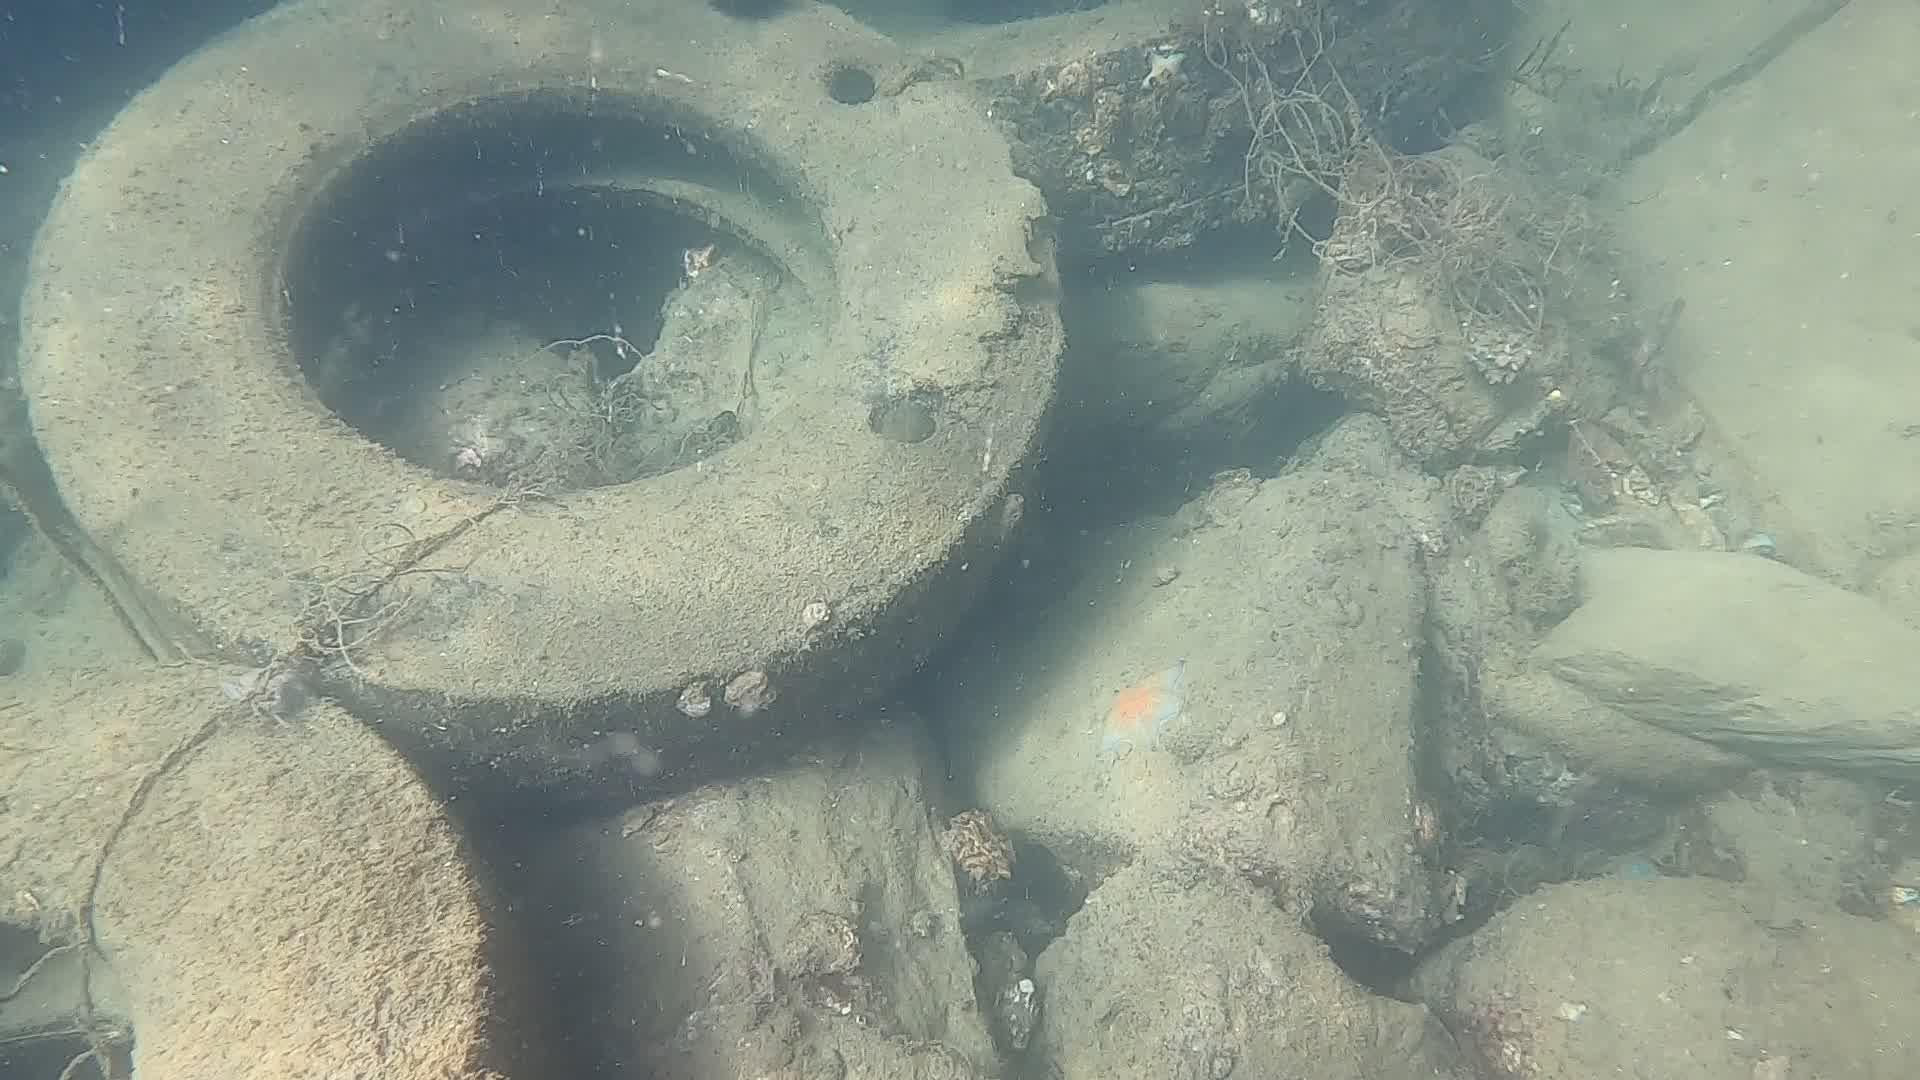tire: (0, 0, 1062, 818)
